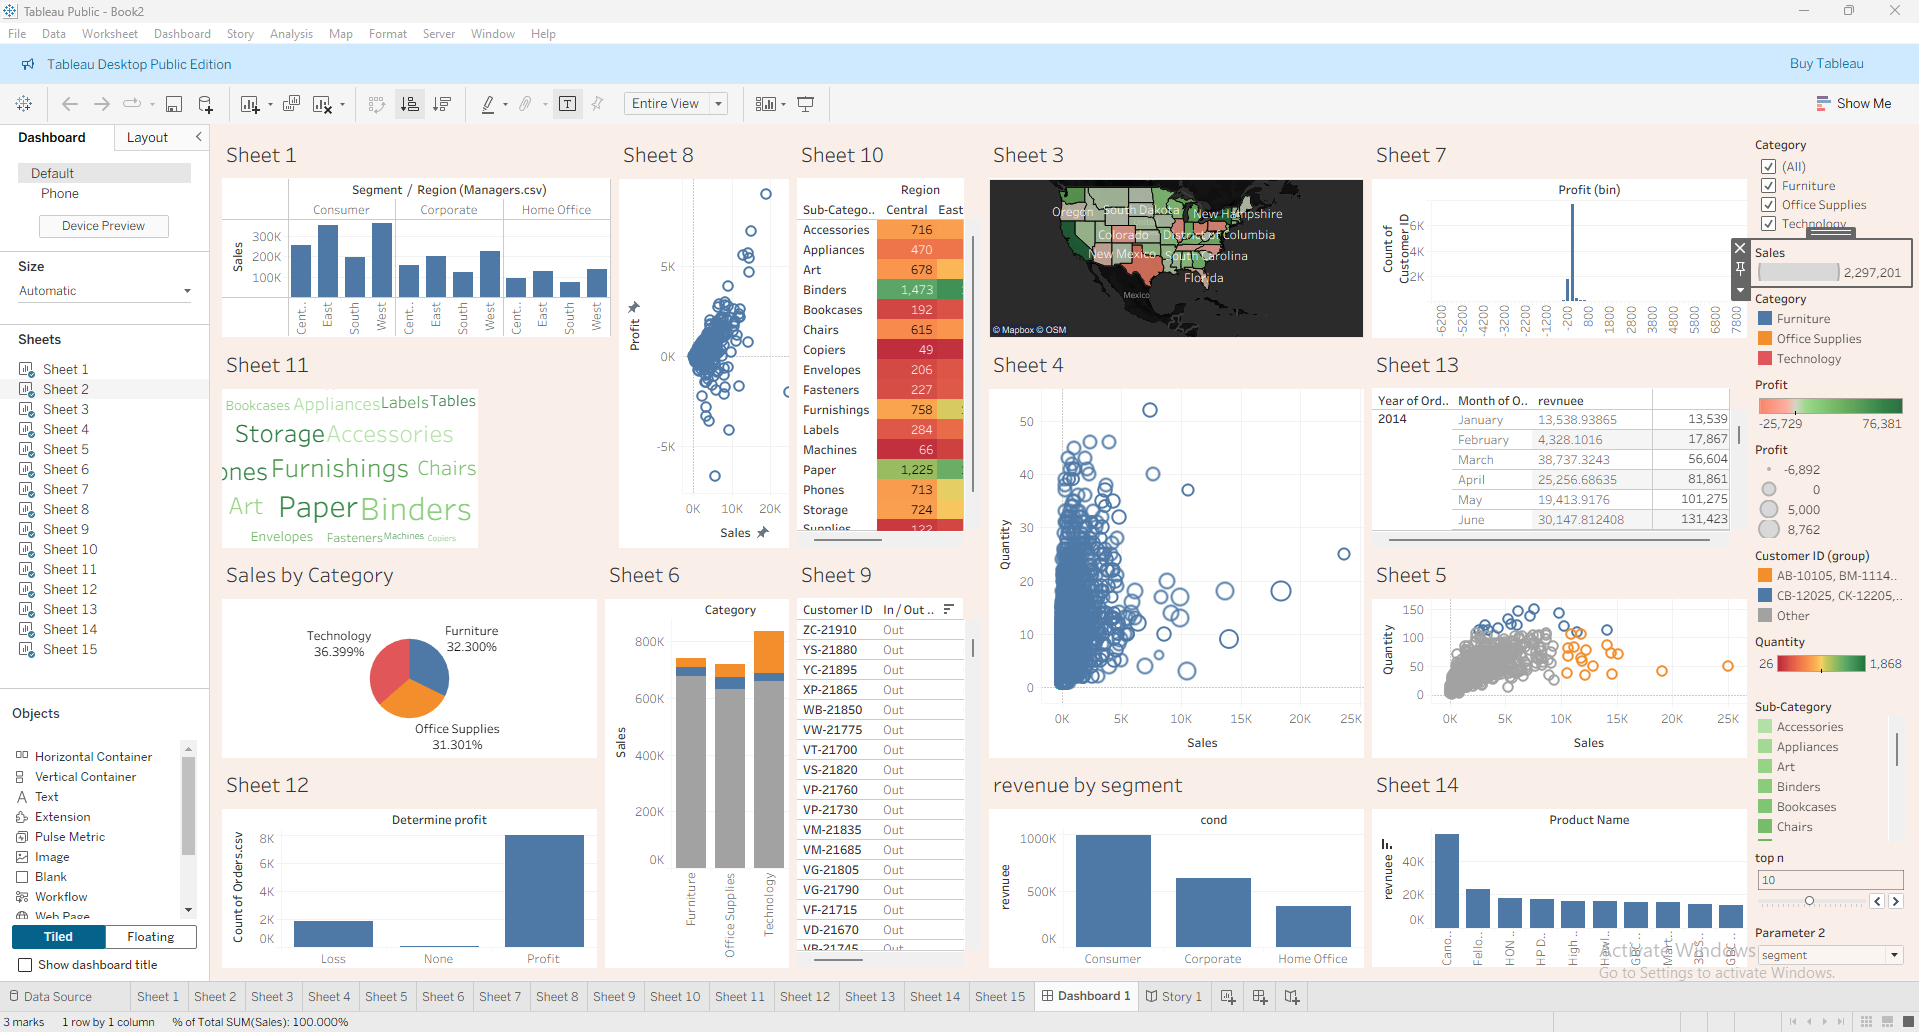

This screenshot's page, from the dashboard's own definition file:
{"tool":"tableau","page":{"name":"Dashboard 1","canvas":[1000,1000],"units":"permille","ordinal":0},"visuals":[{"type":"worksheet","title":"Sheet 1","mark":"Automatic","rows":["Sales"],"cols":["Segment","Region (Managers.csv)"],"box":[4.7,9.3,232.3,245.3]},{"type":"worksheet","title":"Sheet 8","mark":"Automatic","rows":["Profit"],"cols":["Sales"],"box":[237,9.3,104.1,490.7]},{"type":"worksheet","title":"Sheet 10","mark":"Square","rows":["Sub-Category"],"cols":["Region"],"box":[341.1,9.3,112.1,490.7]},{"type":"worksheet","title":"Sheet 3","mark":"Automatic","box":[453.2,9.3,224.3,245.3]},{"type":"worksheet","title":"Sheet 7","mark":"Automatic","rows":["Customer ID"],"cols":["Profit (bin)"],"box":[677.5,9.3,224.2,245.3]},{"type":"filter","title":"Sheet 1","param":"[federated.09nqq3w1i2eo0o14oh3k11fncy0g].[none:Category:nk]","box":[901.7,9.3,93.6,126.2]},{"type":"legend","title":"Sheet 2","param":"[federated.09nqq3w1i2eo0o14oh3k11fncy0g].[sum:Sales:qk]","box":[901.7,135.5,93.6,53.7]},{"type":"legend","title":"Sheet 2","param":"[federated.09nqq3w1i2eo0o14oh3k11fncy0g].[none:Category:nk]","box":[901.7,189.3,93.6,100.5]},{"type":"worksheet","title":"Sheet 11","mark":"Text","box":[4.7,254.7,232.3,245.3]},{"type":"worksheet","title":"Sheet 4","mark":"Automatic","rows":["Quantity"],"cols":["Sales"],"box":[453.2,254.7,224.3,490.7]},{"type":"worksheet","title":"Sheet 13","mark":"Automatic","rows":["Order Date","Order Date","Calculation_1880470803562497"],"box":[677.5,254.7,224.2,245.3]},{"type":"legend","title":"Sheet 3","param":"[federated.09nqq3w1i2eo0o14oh3k11fncy0g].[sum:Profit:qk]","box":[901.7,289.7,93.6,75.9]},{"type":"legend","title":"Sheet 4","param":"[federated.09nqq3w1i2eo0o14oh3k11fncy0g].[sum:Profit:qk]","box":[901.7,365.7,93.6,123.8]},{"type":"legend","title":"Sheet 5","param":"[federated.09nqq3w1i2eo0o14oh3k11fncy0g].[Customer ID (group)]","box":[901.7,489.5,93.6,100.5]},{"type":"worksheet","title":"Sheet 2","mark":"Pie","box":[4.7,500,224.3,245.3]},{"type":"worksheet","title":"Sheet 6","mark":"Automatic","rows":["Sales"],"cols":["Category"],"box":[228.9,500,112.1,490.7]},{"type":"worksheet","title":"Sheet 9","mark":"Automatic","rows":["Customer ID","Customer ID Set","Customer ID Set 2","Set 1"],"box":[341.1,500,112.1,490.7]},{"type":"worksheet","title":"Sheet 5","mark":"Automatic","rows":["Quantity"],"cols":["Sales"],"box":[677.5,500,224.2,245.3]},{"type":"legend","title":"Sheet 10","param":"[federated.09nqq3w1i2eo0o14oh3k11fncy0g].[sum:Quantity:qk]","box":[901.7,590,93.6,75.9]},{"type":"legend","title":"Sheet 11","param":"[federated.09nqq3w1i2eo0o14oh3k11fncy0g].[none:Sub-Category:nk]","box":[901.7,665.9,93.6,176.4]},{"type":"worksheet","title":"Sheet 12","mark":"Automatic","rows":["Orders.csv_73D10FB3DFA24F73AD79AFD6D9F40AF7"],"cols":["Calculation_1880470803779586"],"box":[4.7,745.3,224.3,245.3]},{"type":"worksheet","title":"Sheet 15","mark":"Automatic","rows":["Calculation_1880470803562497"],"cols":["Calculation_1880470816813059"],"box":[453.2,745.3,224.3,245.3]},{"type":"worksheet","title":"Sheet 14","mark":"Automatic","rows":["Calculation_1880470803562497"],"cols":["Product Name"],"box":[677.5,745.3,224.2,245.3]},{"type":"parameter","param":"[Parameters].[Parameter 1]","box":[901.7,842.3,93.6,87.6]},{"type":"parameter","param":"[Parameters].[Parameter 2]","box":[901.7,929.9,93.6,60.8]}]}

Visuals, with their boxes on the dashboard's canvas, which has no fixed pixel size, in thousandths of its width and height (x1, y1, x2, y2). These are canvas units, not pixel positions in the 1919x1032 screenshot, which may show the page scaled, cropped or inside an application window:
"Sheet 1" worksheet: [5, 9, 237, 255]
"Sheet 8" worksheet: [237, 9, 341, 500]
"Sheet 10" worksheet (Square marks): [341, 9, 453, 500]
"Sheet 3" worksheet: [453, 9, 678, 255]
"Sheet 7" worksheet: [678, 9, 902, 255]
"Sheet 1" filter: [902, 9, 995, 136]
"Sheet 2" legend: [902, 136, 995, 189]
"Sheet 2" legend: [902, 189, 995, 290]
"Sheet 11" worksheet (Text marks): [5, 255, 237, 500]
"Sheet 4" worksheet: [453, 255, 678, 745]
"Sheet 13" worksheet: [678, 255, 902, 500]
"Sheet 3" legend: [902, 290, 995, 366]
"Sheet 4" legend: [902, 366, 995, 490]
"Sheet 5" legend: [902, 490, 995, 590]
"Sheet 2" worksheet (Pie marks): [5, 500, 229, 745]
"Sheet 6" worksheet: [229, 500, 341, 991]
"Sheet 9" worksheet: [341, 500, 453, 991]
"Sheet 5" worksheet: [678, 500, 902, 745]
"Sheet 10" legend: [902, 590, 995, 666]
"Sheet 11" legend: [902, 666, 995, 842]
"Sheet 12" worksheet: [5, 745, 229, 991]
"Sheet 15" worksheet: [453, 745, 678, 991]
"Sheet 14" worksheet: [678, 745, 902, 991]
parameter: [902, 842, 995, 930]
parameter: [902, 930, 995, 991]
